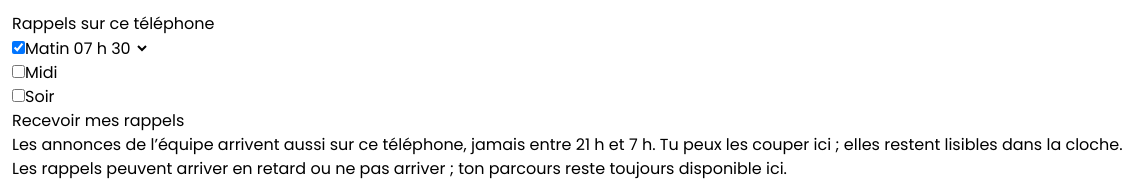
it: Rappels sur ce téléphone › sans aucun moment choisi, le bouton reste inactif
The image size is (1139, 196).
Click the checkbox labelled "Matin": (18, 48) left=12, top=41, right=25, bottom=54
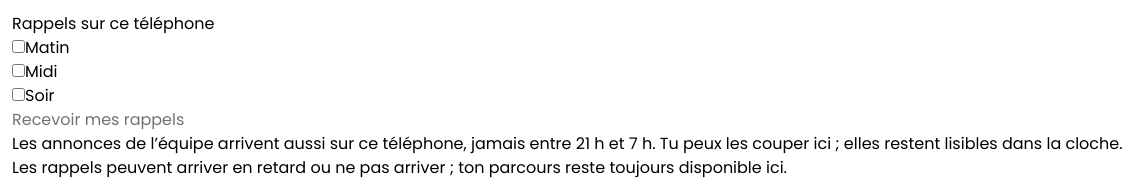
Result: the button "Recevoir mes rappels" is disabled at left=12, top=108, right=184, bottom=132
